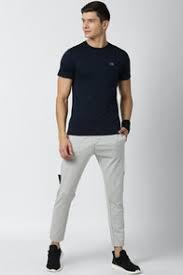Tshirt: (55, 40, 133, 142)
pants: (49, 132, 128, 250)
